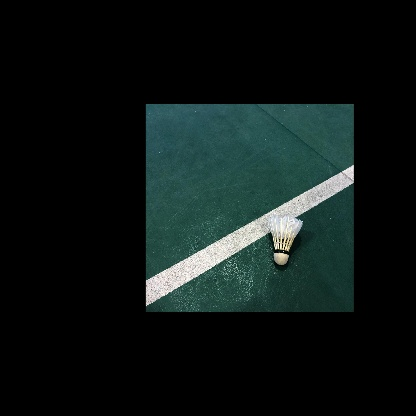ball_single: (268, 214, 302, 265)
